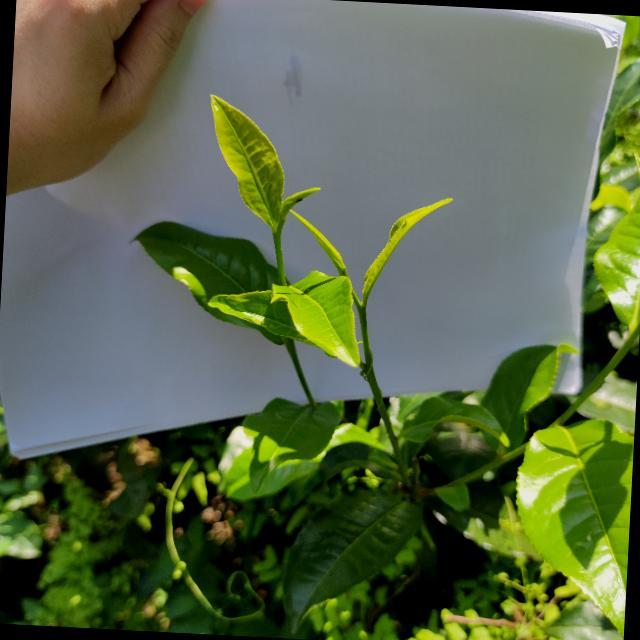Stem: (359, 312, 369, 341), (273, 233, 283, 259)
